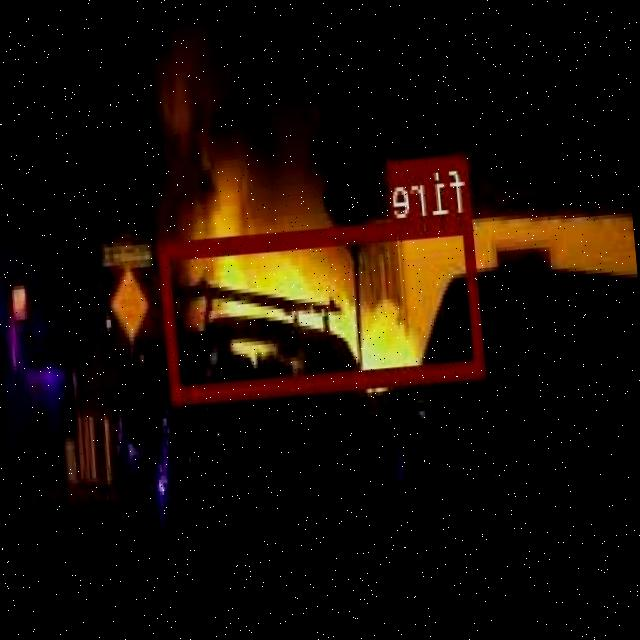fire: (160, 214, 486, 400)
